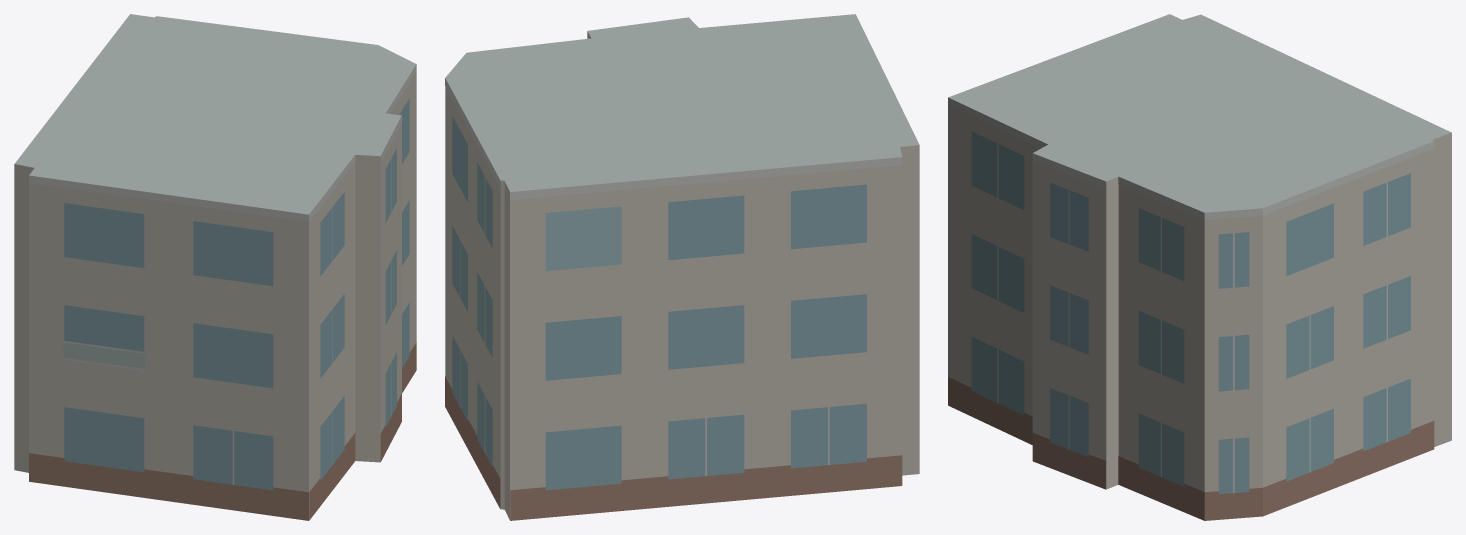
File: survey-upis-32627737.glb
3 views of the same model, side by side, from view 1: azimuth 30°, elevation 25°; view 2: azimuth 150°, elevation 25°; view 3: azimuth 270°, elevation 25° (orthographic). The views are drawn at different scales.
Visible parts, largest first — view 1: survey-upis-32627737.tmp; view 2: survey-upis-32627737.tmp; view 3: survey-upis-32627737.tmp.
Boxes of the visible parts, x1,y1,x2,y2 form: survey-upis-32627737.tmp: (14, 14, 416, 520); survey-upis-32627737.tmp: (445, 14, 919, 520); survey-upis-32627737.tmp: (948, 14, 1451, 520).
Bounding box in the file's own units: 14.12 × 10.2 × 15.12.
